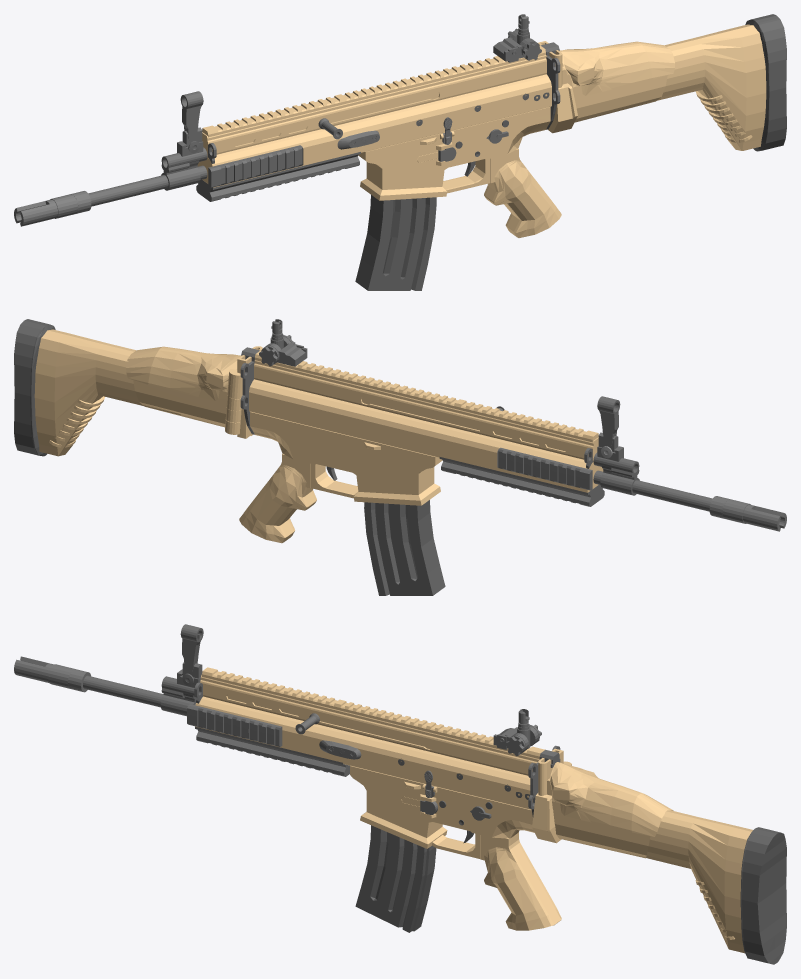
File: Scarl.fbx
3 renders of one model, top to bottom at view 1: azimuth 30°, elevation 25°; view 2: azimuth 150°, elevation 25°; view 3: azimuth 330°, elevation 25°, orthographic.
Visible parts, largest first — view 1: polySurface41; view 2: polySurface41; view 3: polySurface41.
Part boxes in pixels (x1,y1,x2,y2): polySurface41: (14, 14, 786, 290); polySurface41: (14, 319, 786, 595); polySurface41: (14, 624, 786, 964).
Size of the model in its own units: 18.48 by 5.76 by 1.42.
